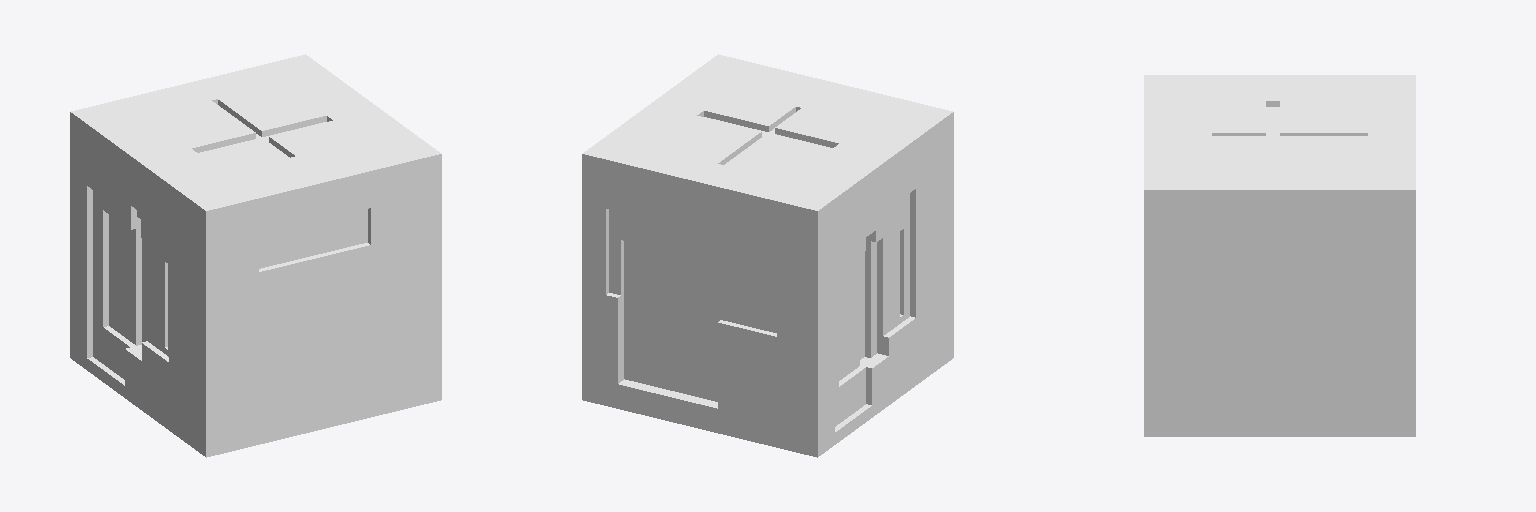
Rendered from CAIXA.obj.
3 views of the same model, side by side, from view 1: azimuth 30°, elevation 25°; view 2: azimuth 150°, elevation 25°; view 3: azimuth 270°, elevation 25° (orthographic).
Parts seen in each view (by area): view 1: object 1; view 2: object 1; view 3: object 1.
Boxes of the visible parts, x1,y1,x2,y2 form: object 1: [70, 54, 441, 457]; object 1: [582, 54, 953, 457]; object 1: [1144, 75, 1415, 436].
Bounding box in the file's own units: 4 × 4 × 4.